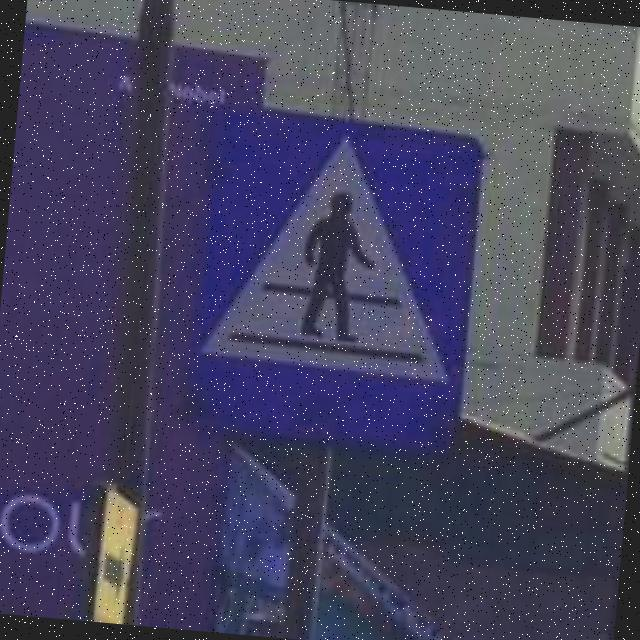Przejscie dla pieszych: (191, 106, 488, 460)
